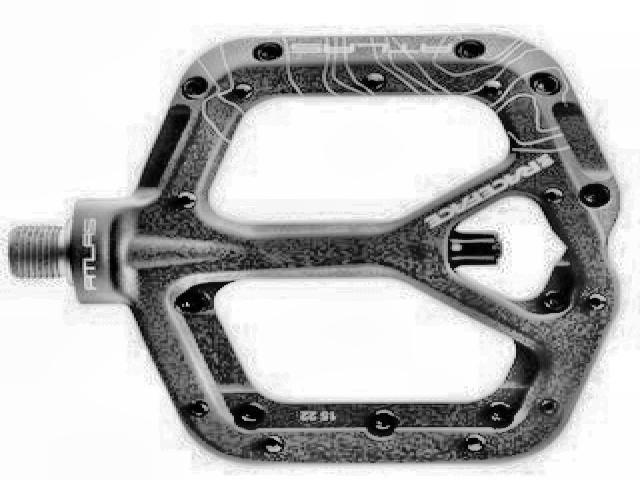pedal: (9, 30, 625, 475)
